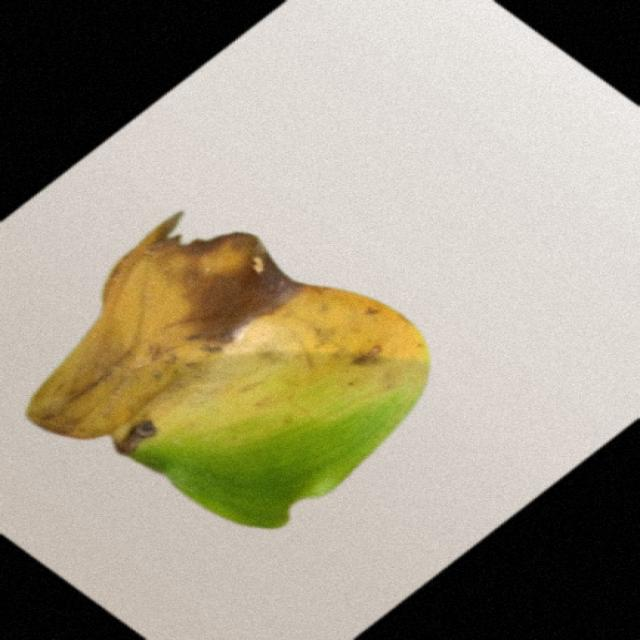daun berpenyakit kuning: (27, 214, 428, 527)
